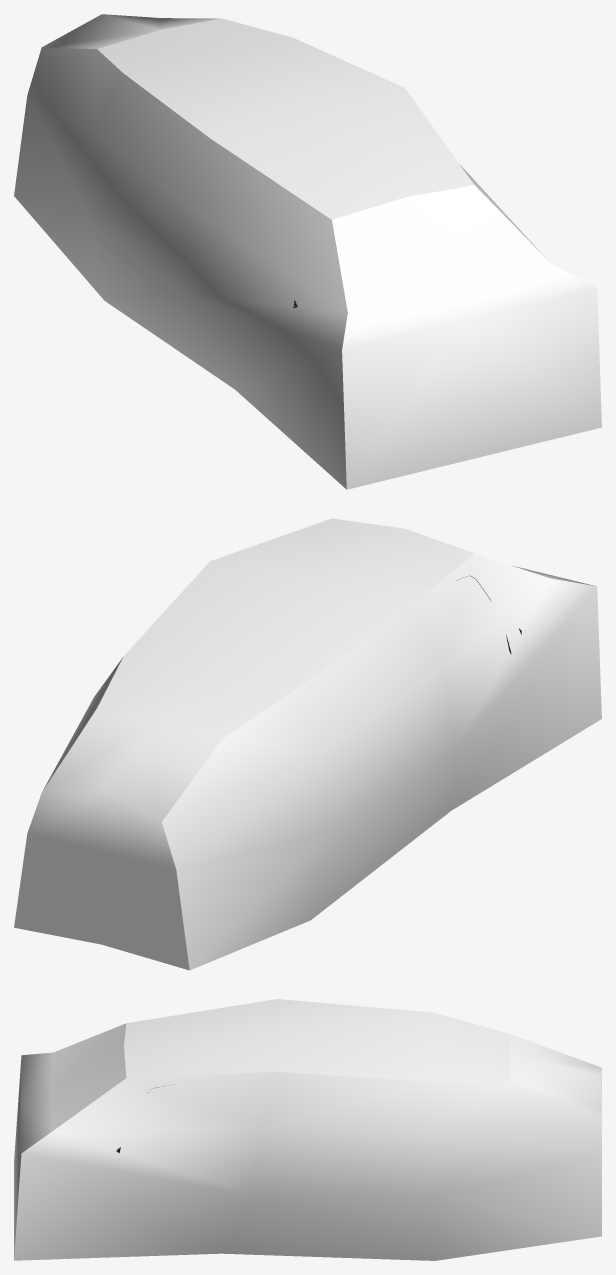
File: DA62_INTERIOR_LOD03.gltf
The picture shows the model from 3 angles, top to bottom: view 1: azimuth 30°, elevation 25°; view 2: azimuth 150°, elevation 25°; view 3: azimuth 270°, elevation 25°; orthographic projection. The views are drawn at different scales.
Visible parts, largest first — view 1: Occluder; view 2: Occluder; view 3: Occluder.
Boxes of the visible parts, x1=… form: Occluder: x1=14, y1=14, x2=601, y2=489; Occluder: x1=14, y1=518, x2=601, y2=970; Occluder: x1=14, y1=999, x2=601, y2=1260.
Size of the model in its own units: 1.47 by 1.28 by 3.51.
